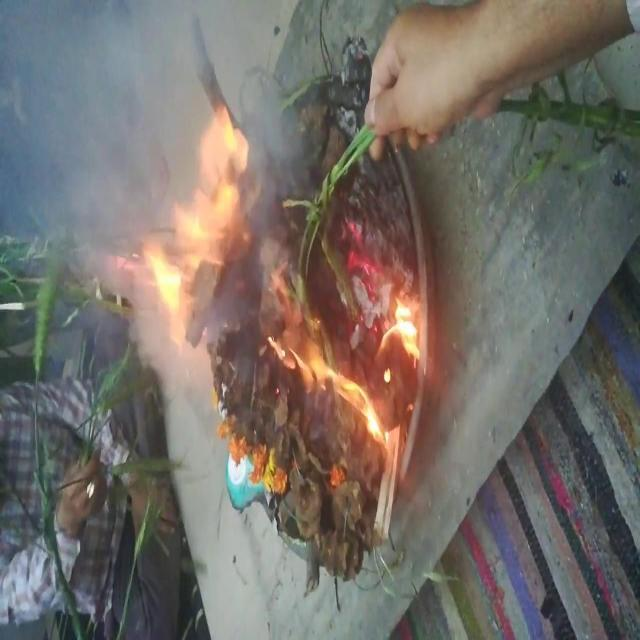fire: (135, 98, 253, 313), (299, 344, 398, 465), (377, 281, 428, 366)
other: (203, 374, 287, 515), (325, 452, 349, 502)
